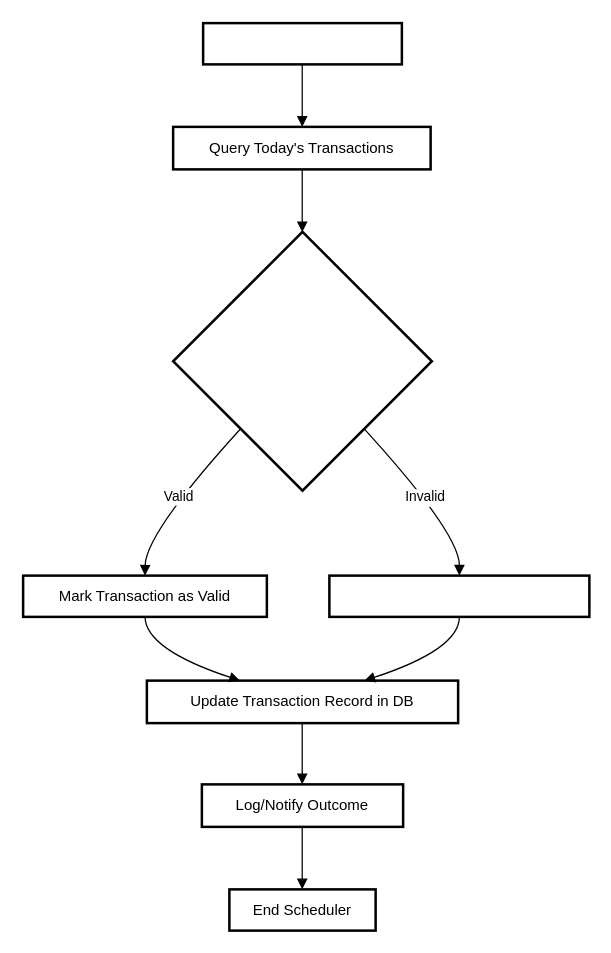
The diagram is 611 pixels wide and 953 high, and some of its shapes have lost their labels. Here are the shapes that lost their labels. From the top down, the centre of each, then its label:
At [301,43]: "Start EOD Scheduler".
At [301,360]: "Apply Validation Rules".
At [459,596]: "Mark Transaction as Invalid".
